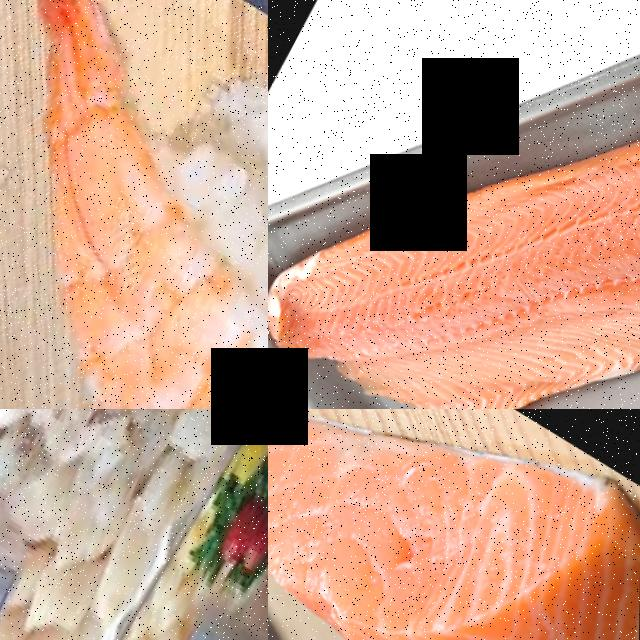salmon: (268, 409, 640, 640), (373, 165, 555, 348), (268, 216, 430, 405), (493, 123, 640, 305)
shrimp: (33, 194, 268, 409)
